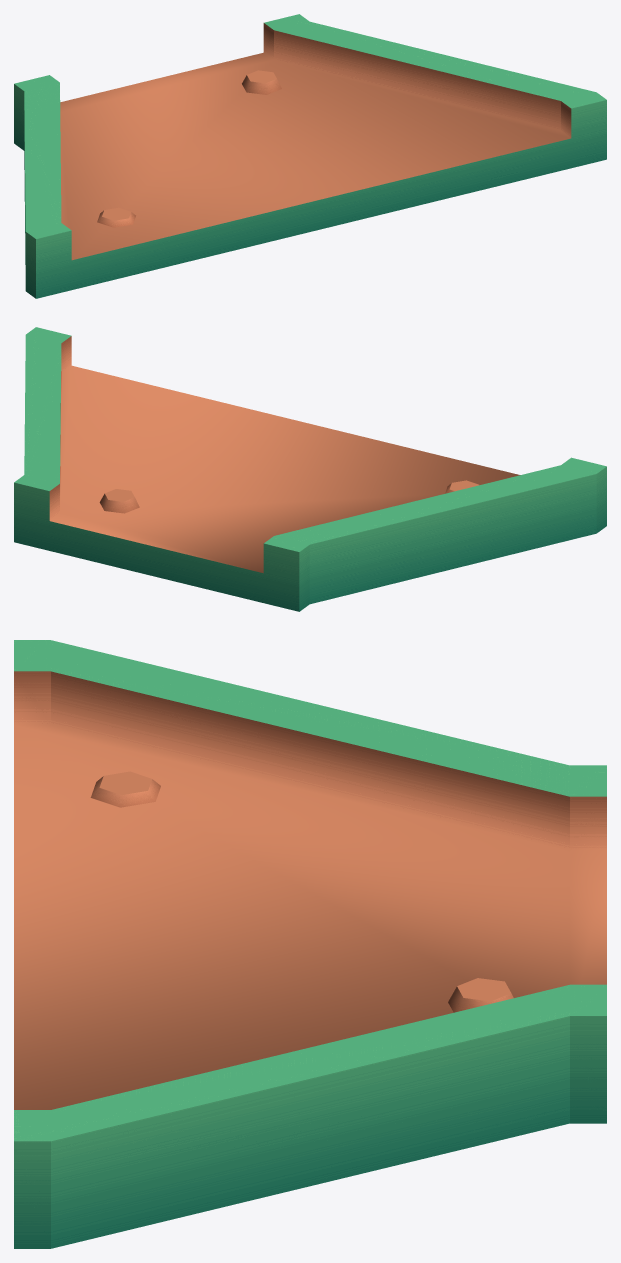
File: tile-wide-transition.glb
3 renders of one model, top to bottom at view 1: azimuth 30°, elevation 25°; view 2: azimuth 150°, elevation 25°; view 3: azimuth 270°, elevation 25°, orthographic. The views are drawn at different scales.
Parts seen in each view (by area): view 1: tile-wide-transition; view 2: tile-wide-transition; view 3: tile-wide-transition.
Boxes of the visible parts, bbox=[...] form: tile-wide-transition: bbox=[14, 14, 606, 298]; tile-wide-transition: bbox=[14, 327, 606, 611]; tile-wide-transition: bbox=[14, 640, 606, 1248].
Size of the model in its own units: 6 by 0.6 by 3.
Materials: 1 (1 with a texture image).
